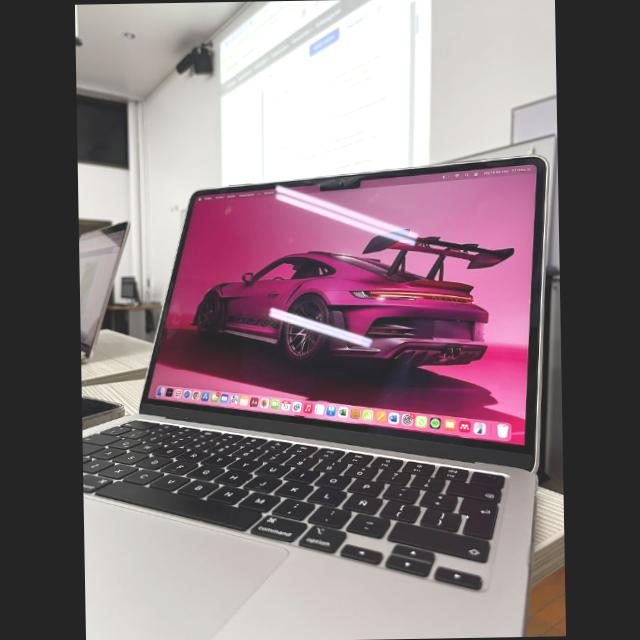laptop: (171, 166, 530, 640)
